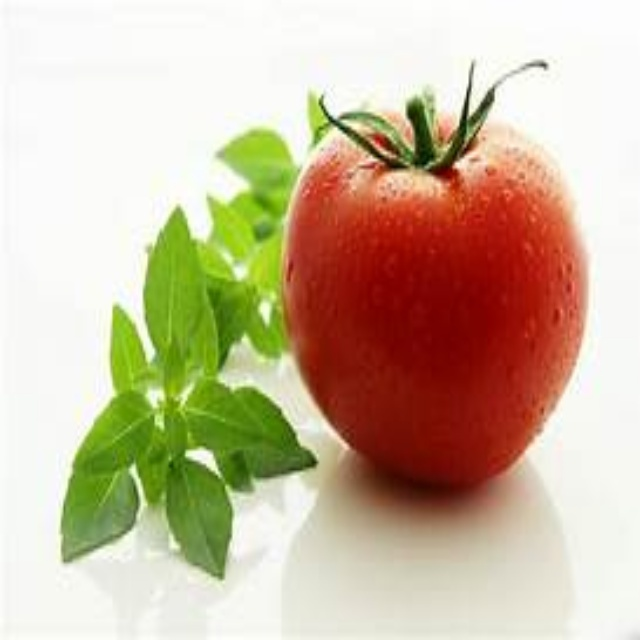tomato: (293, 102, 595, 498)
